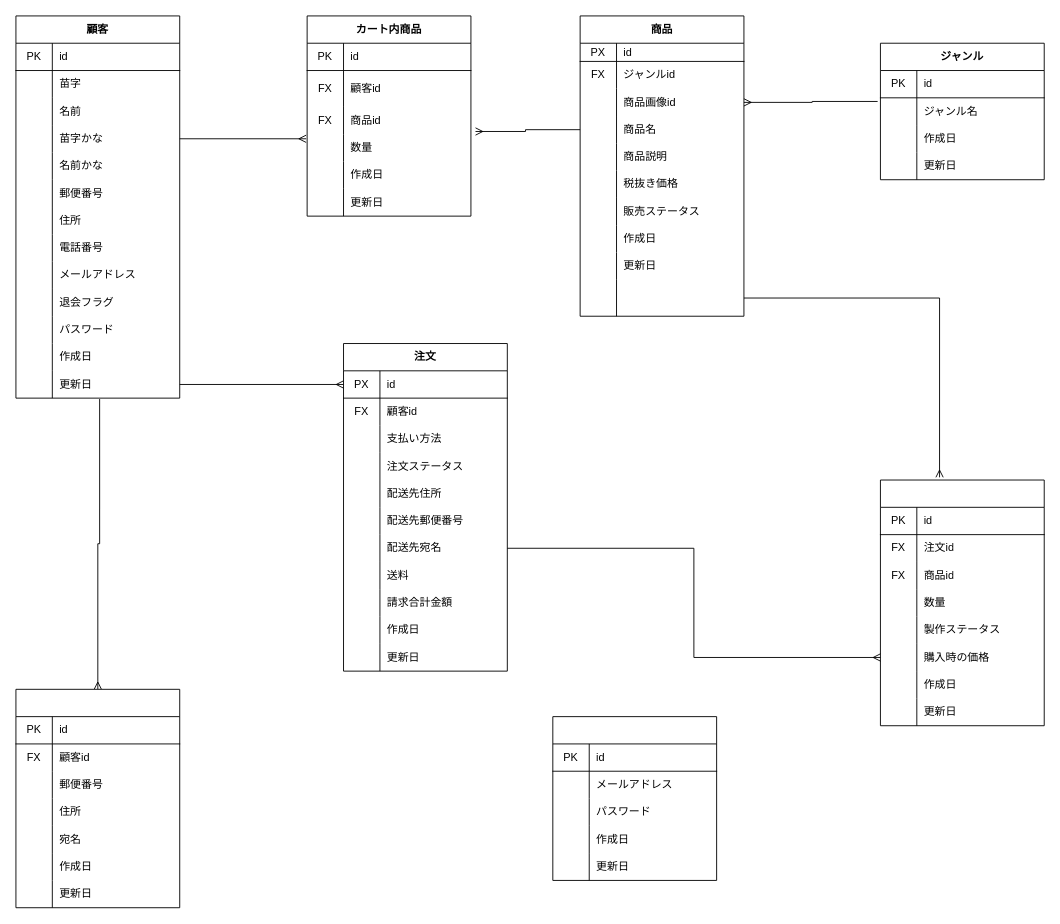
Image size: 1060x924. Some labels were removed from this diagram. Each missing label, with the box of its shape:
注文商品: (880, 479, 1044, 726)
管理者: (552, 716, 717, 880)
配送先: (15, 688, 180, 908)
